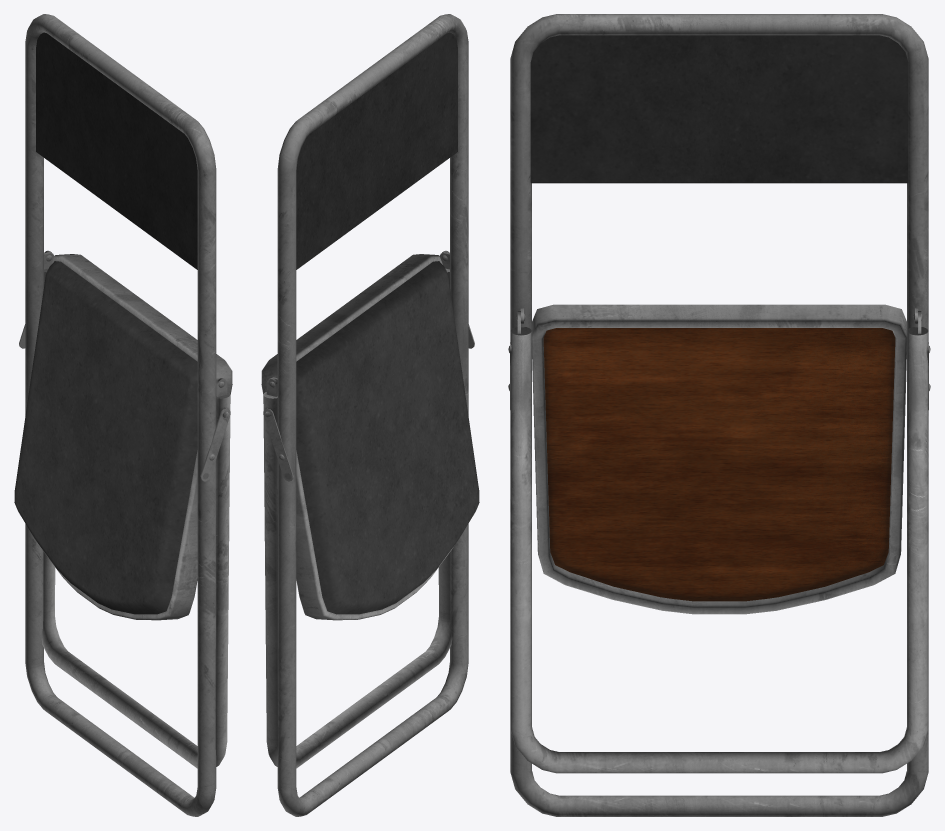
Rendered from SM_Folding_Closed.fbx.
3 renders of one model, left to right at view 1: azimuth 30°, elevation 25°; view 2: azimuth 150°, elevation 25°; view 3: azimuth 270°, elevation 25°, orthographic. The views are drawn at different scales.
Parts seen in each view (by area): view 1: SM_Folding_Closed_LOD0; view 2: SM_Folding_Closed_LOD0; view 3: SM_Folding_Closed_LOD0.
Part boxes in pixels (<box>): SM_Folding_Closed_LOD0: <box>14,14,232,816</box>; SM_Folding_Closed_LOD0: <box>261,14,479,816</box>; SM_Folding_Closed_LOD0: <box>508,14,930,816</box>.
Size of the model in its own units: 11.88 by 48.99 by 102.
Materials: 1 (1 with a texture image).
